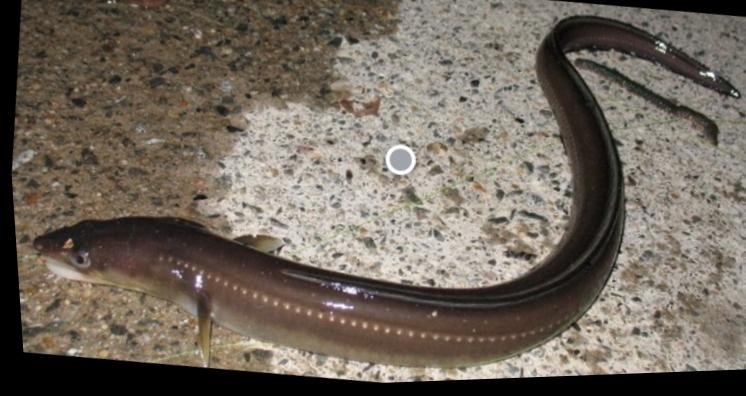fish: (30, 19, 738, 370)
